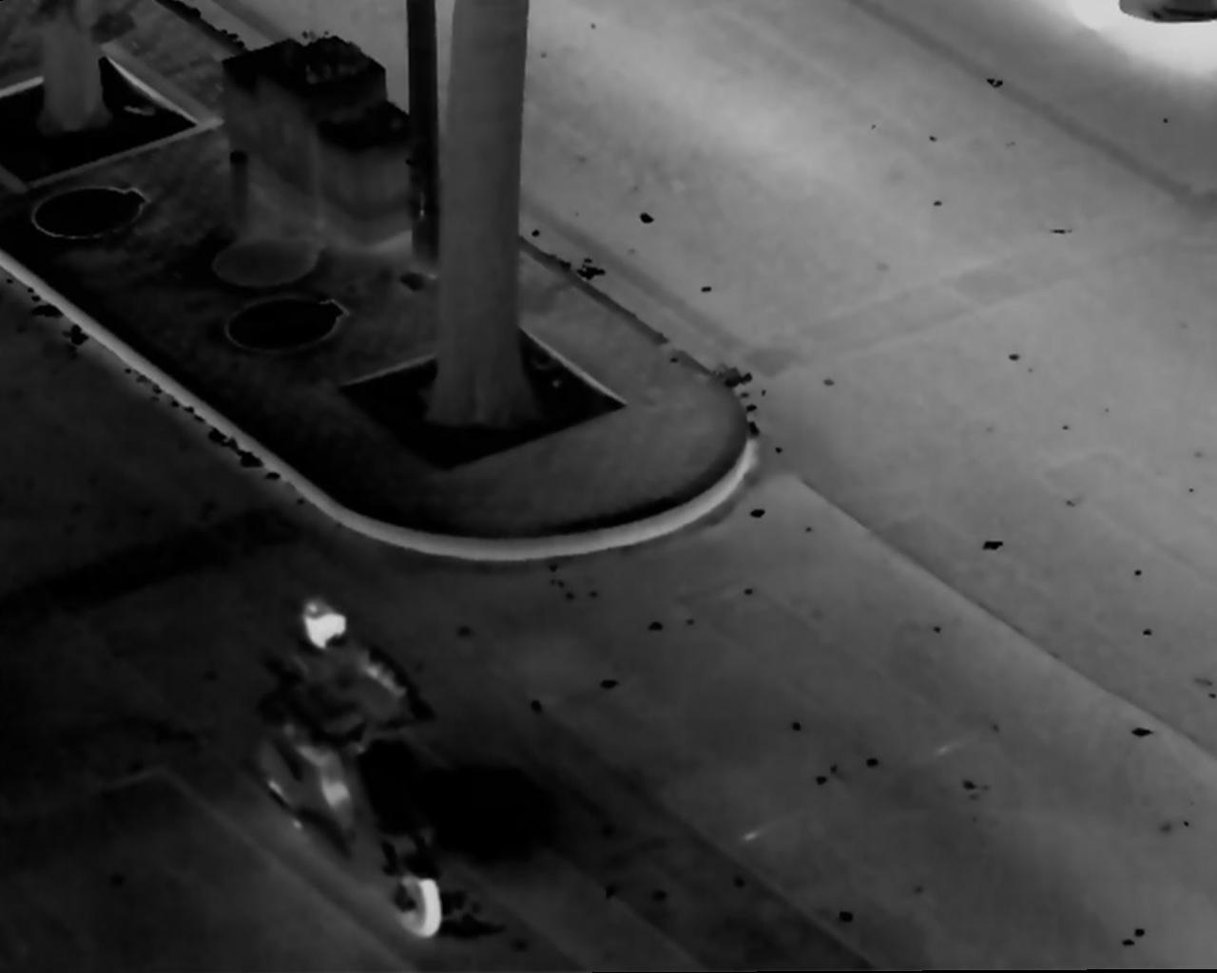person: (281, 590, 393, 861)
